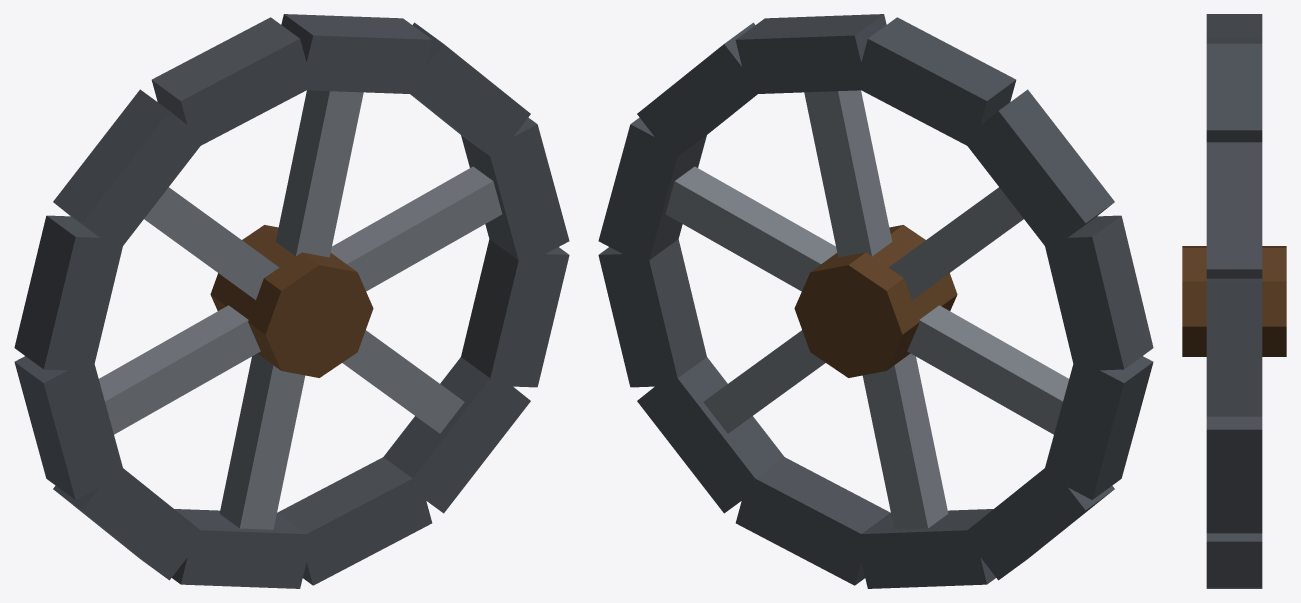
The model's file is ind_sheave.glb.
3 renders of one model, left to right at view 1: azimuth 30°, elevation 25°; view 2: azimuth 150°, elevation 25°; view 3: azimuth 270°, elevation 25°, orthographic. The views are drawn at different scales.
Parts seen in each view (by area): view 1: ind_sheave; view 2: ind_sheave; view 3: ind_sheave.
Part boxes in pixels (x1=…): ind_sheave: x1=14, y1=14, x2=569, y2=588; ind_sheave: x1=598, y1=14, x2=1153, y2=588; ind_sheave: x1=1182, y1=14, x2=1286, y2=588.
Bounding box in the file's own units: 0.1655 × 0.1655 × 0.03.
